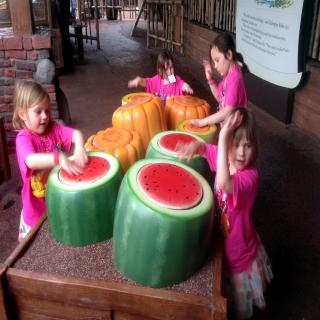Watermelon: (113, 157, 216, 289), (45, 151, 124, 246), (144, 132, 214, 201)
